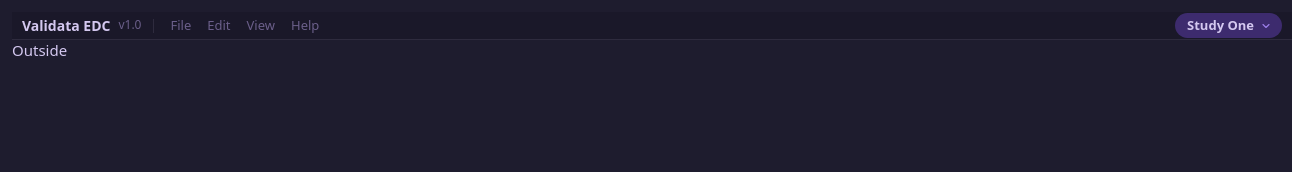
Test: MenuBar › closes the dropdown when clicking outside
This screenshot has width=1292, height=172.
Click the button "Study One" at (1229, 26), box [1175,13,1282,38]
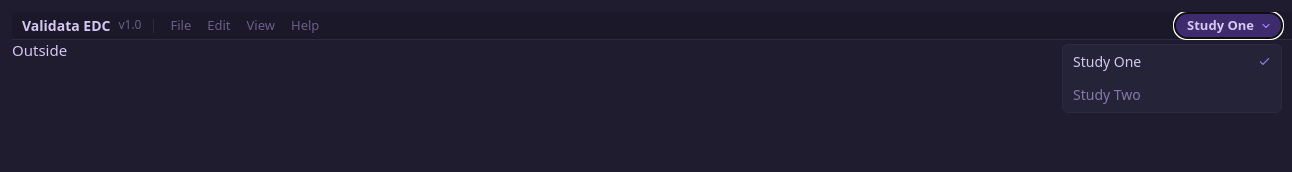
Now the text "Study One" is shown 2 times, box [1187,16,1254,35]; [1073,52,1141,71]
Click the text with test id "outside" at (40, 50), box [12,40,67,60]
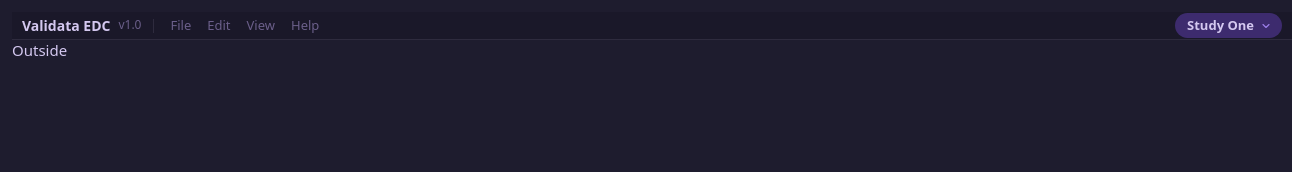
Now the text "Study One" is shown once, box [1187,16,1254,35]
